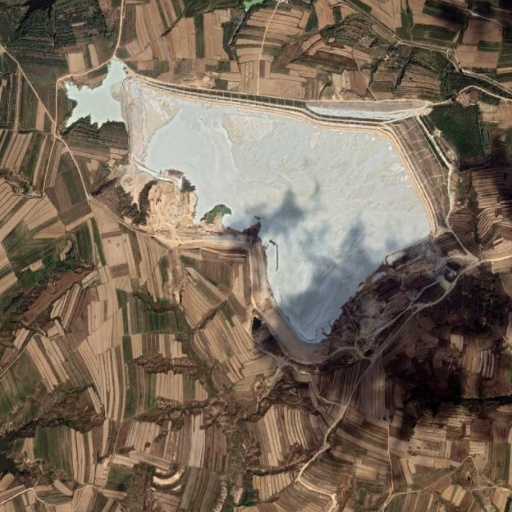tp: (64, 58, 452, 346)
